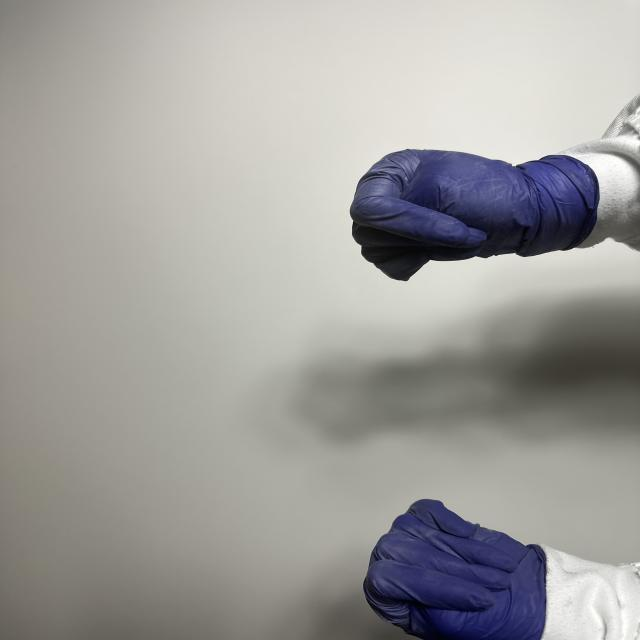gloves_contaminated: (351, 150, 600, 280), (364, 499, 546, 640)
